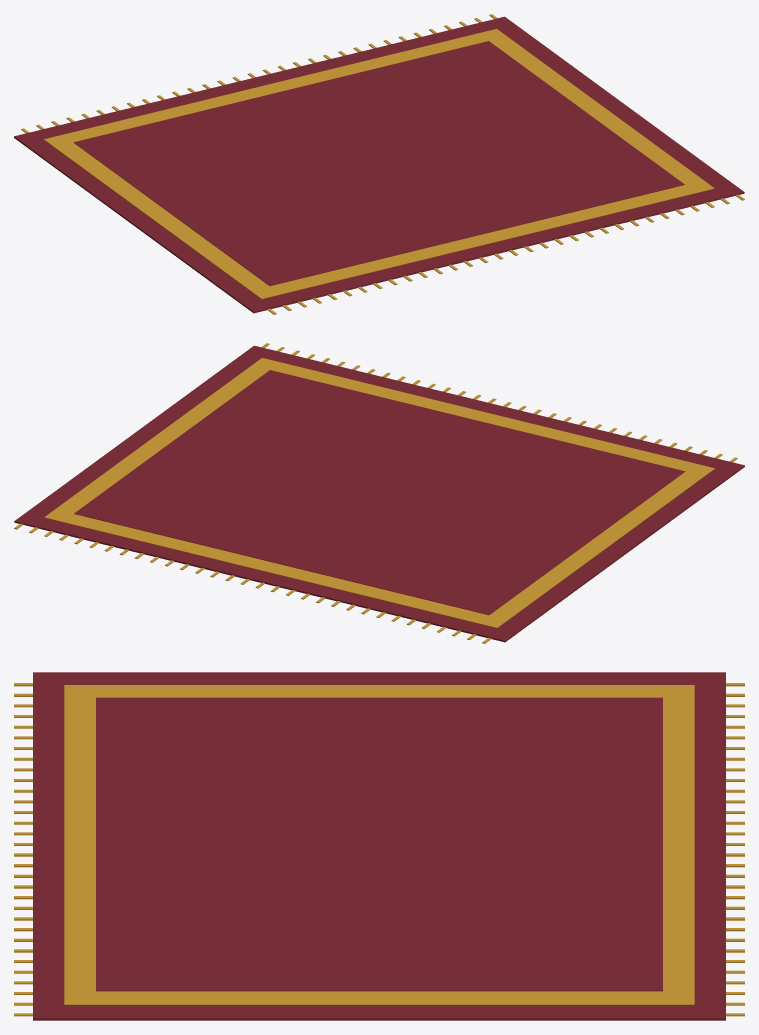
File: rugLiving.fbx
3 renders of one model, top to bottom at view 1: azimuth 30°, elevation 25°; view 2: azimuth 150°, elevation 25°; view 3: azimuth 270°, elevation 25°, orthographic. The views are drawn at different scales.
Visible parts, largest first — view 1: rugLiving; view 2: rugLiving; view 3: rugLiving.
Part boxes in pixels (x1=…): rugLiving: x1=14, y1=14, x2=744, y2=314; rugLiving: x1=14, y1=343, x2=744, y2=643; rugLiving: x1=14, y1=672, x2=744, y2=1020.
Bounding box in the file's own units: 10.4 × 0.066 × 9.28.
